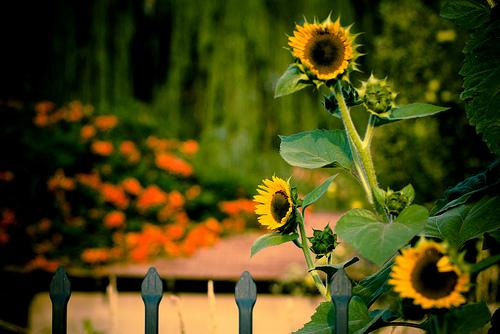sunflower: (391, 238, 471, 308), (286, 14, 361, 84), (253, 174, 294, 230)
